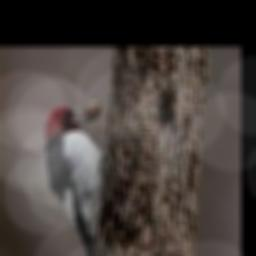Woodpecker: (44, 99, 105, 256)
